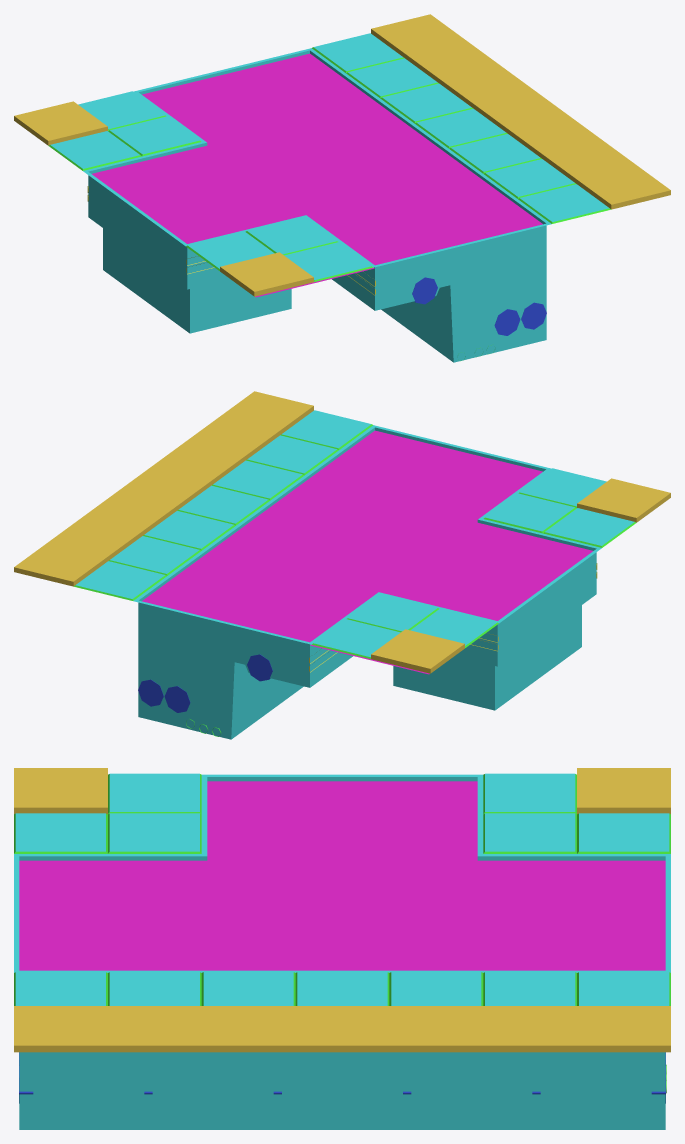
Rendered from Floor_09_D.fbx.
The picture shows the model from 3 angles, top to bottom: view 1: azimuth 30°, elevation 25°; view 2: azimuth 150°, elevation 25°; view 3: azimuth 270°, elevation 25°; orthographic projection. The views are drawn at different scales.
Parts seen in each view (by area): view 1: Floor_09_D; view 2: Floor_09_D; view 3: Floor_09_D.
Part boxes in pixels (<box>): Floor_09_D: <box>14,14,670,362</box>; Floor_09_D: <box>14,391,670,739</box>; Floor_09_D: <box>14,768,670,1129</box>.
Size of what is drawn, in the model's own units: 457 by 128 by 457.
